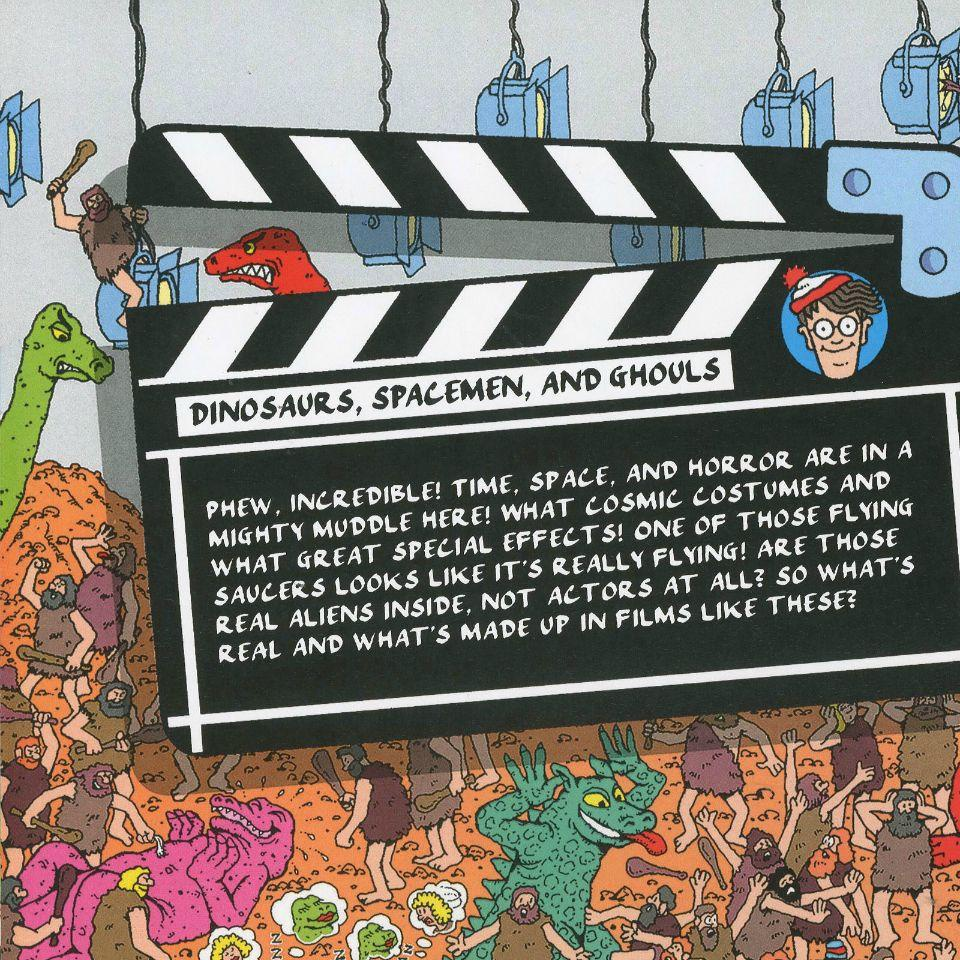waldo: (782, 265, 883, 378)
